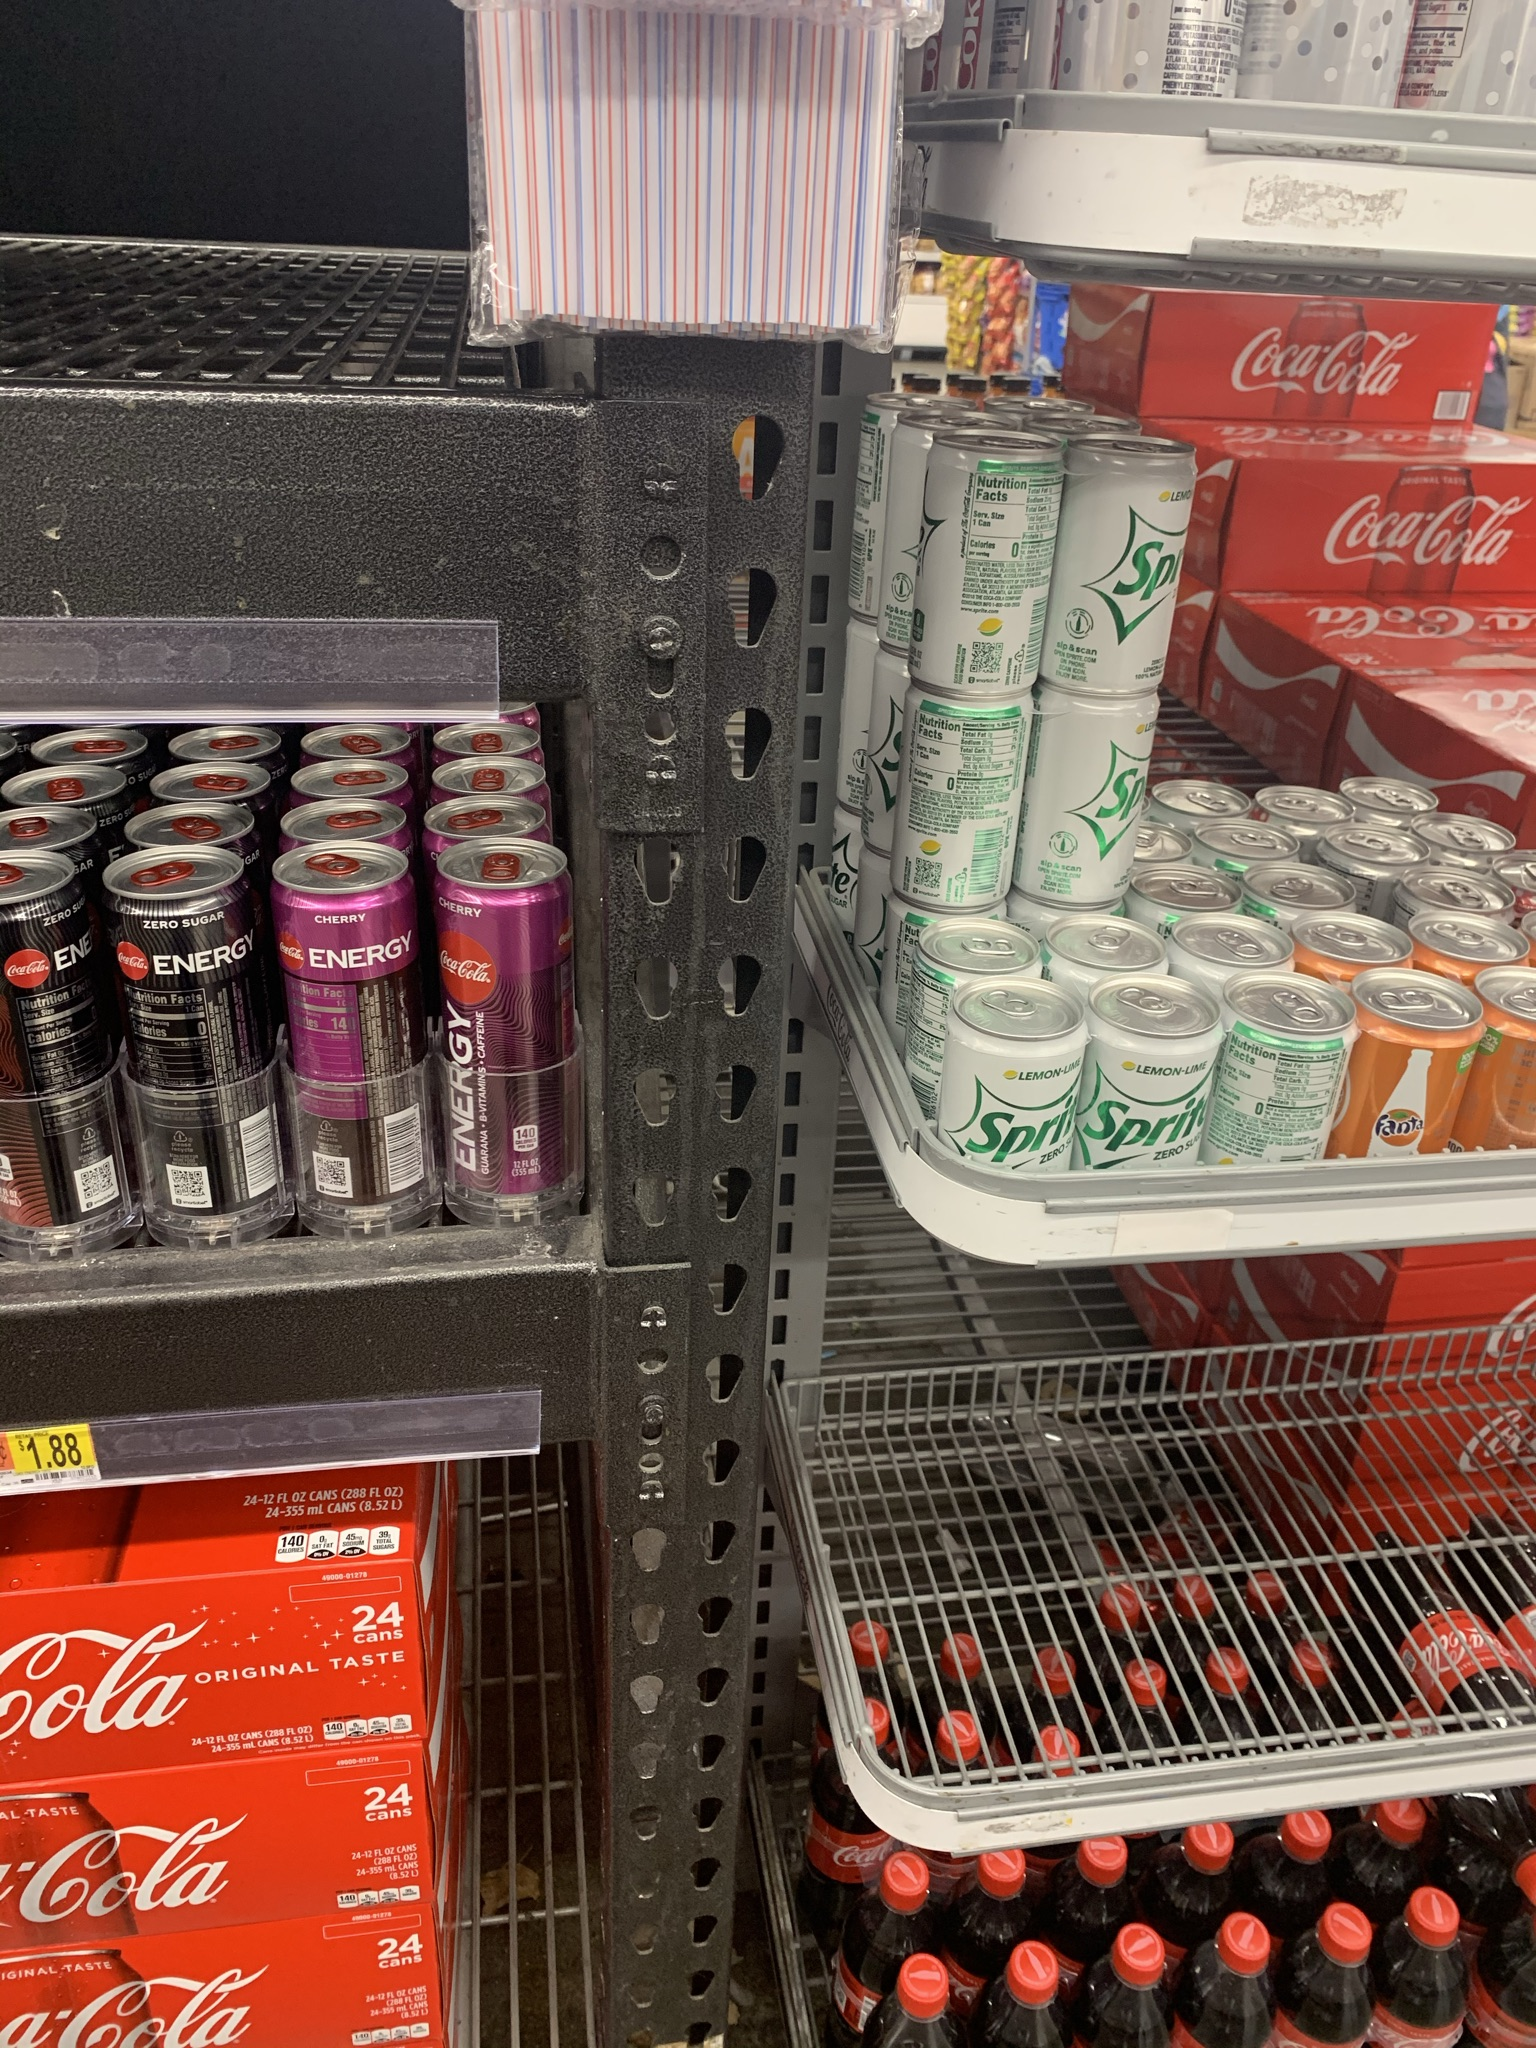coke soda: (3, 1584, 424, 2048), (1154, 302, 1536, 774), (18, 869, 599, 1159)
sprite soda: (904, 934, 1075, 1161), (1079, 439, 1179, 698), (1078, 930, 1199, 1142), (947, 456, 1049, 698), (925, 714, 1016, 910), (1039, 726, 1134, 884)
